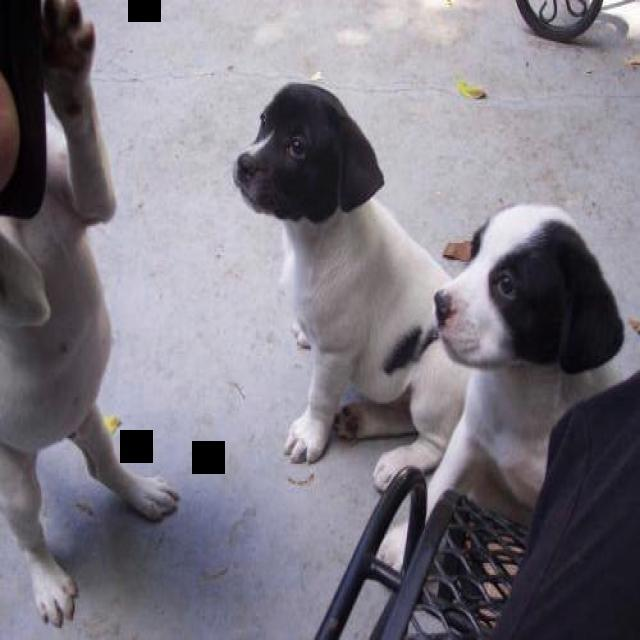adult_dog: (0, 0, 182, 633)
puppy-dog: (228, 80, 463, 493), (373, 201, 630, 574)
